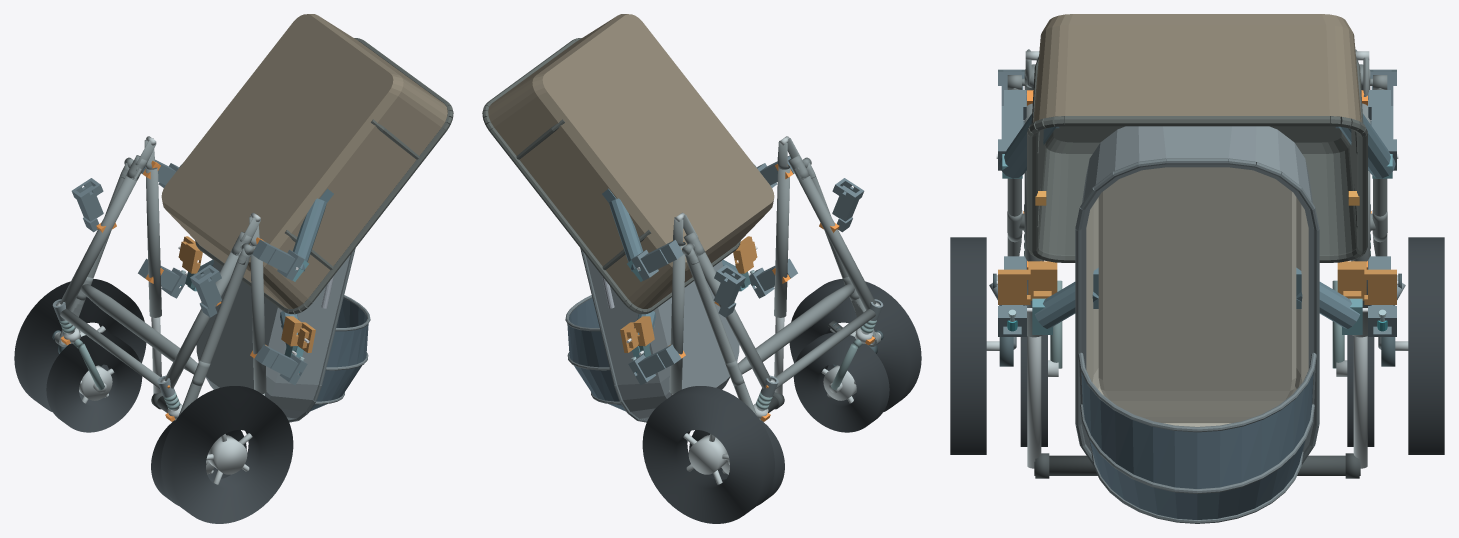
File: D18_w650_state3_wheel_L.glb
3 renders of one model, left to right at view 1: azimuth 30°, elevation 25°; view 2: azimuth 150°, elevation 25°; view 3: azimuth 270°, elevation 25°, orthographic. The views are drawn at different scales.
Parts seen in each view (by area): view 1: D18_Lower, D18_Upper, RL_tire.008, FR_tire.008, RR_tire.008, V46_rearbar.009, main_upper_1.009, main_lower_1.009, V46_rear_leg_-1.009, main_upper_-1.009, main_lower_-1.009, D18_Lower_Mount_M (+13 smaller); view 2: D18_Lower, D18_Upper, RR_tire.008, FL_tire.008, RL_tire.008, V46_rearbar.009, main_upper_-1.009, main_lower_-1.009, V46_rear_leg_1.009, main_upper_1.009, main_lower_1.009, D18_Lower_Mount_M (+13 smaller); view 3: D18_Upper, D18_Lower, RL_tire.008, RR_tire.008, D18_Upper_Mount_H, D18_Lower_Mount_M, D02_WideAdapter_H_-1, D02_WideAdapter_H_1, round_handle.008, handle_slider_1.008, handle_slider_-1.008, FL_tire.008 (+11 smaller).
Part boxes in pixels (x1,y1,x2,y2): D18_Lower: [161, 14, 453, 314]; D18_Upper: [196, 248, 370, 422]; RL_tire.008: [161, 386, 293, 523]; FR_tire.008: [46, 332, 142, 432]; RR_tire.008: [14, 279, 146, 411]; V46_rearbar.009: [81, 284, 197, 374]; main_upper_1.009: [145, 168, 161, 317]; main_lower_1.009: [60, 168, 141, 310]; V46_rear_leg_-1.009: [178, 254, 249, 416]; main_upper_-1.009: [250, 244, 266, 394]; main_lower_-1.009: [164, 250, 241, 388]; D18_Lower_Mount_M: [179, 164, 333, 281]; D18_Lower: [482, 14, 774, 314]; D18_Upper: [565, 248, 739, 422]; RR_tire.008: [642, 386, 774, 523]; FL_tire.008: [793, 332, 889, 432]; RL_tire.008: [789, 279, 921, 411]; V46_rearbar.009: [738, 284, 854, 374]; main_upper_-1.009: [774, 168, 790, 317]; main_lower_-1.009: [794, 168, 875, 310]; V46_rear_leg_1.009: [686, 254, 757, 416]; main_upper_1.009: [669, 244, 685, 394]; main_lower_1.009: [694, 250, 771, 388]; D18_Lower_Mount_M: [602, 164, 756, 281]; D18_Upper: [1075, 126, 1319, 523]; D18_Lower: [1027, 14, 1367, 262]; RL_tire.008: [950, 237, 986, 454]; RR_tire.008: [1408, 237, 1444, 454]; D18_Upper_Mount_H: [1027, 267, 1367, 334]; D18_Lower_Mount_M: [996, 113, 1398, 178]; D02_WideAdapter_H_-1: [996, 261, 1057, 304]; D02_WideAdapter_H_1: [1337, 261, 1398, 304]; round_handle.008: [1034, 455, 1360, 475]; handle_slider_1.008: [1353, 336, 1367, 468]; handle_slider_-1.008: [1027, 336, 1041, 468]; FL_tire.008: [1020, 305, 1047, 446].
Size of the model in its own units: 0.9347 by 1.06 by 0.8171.
